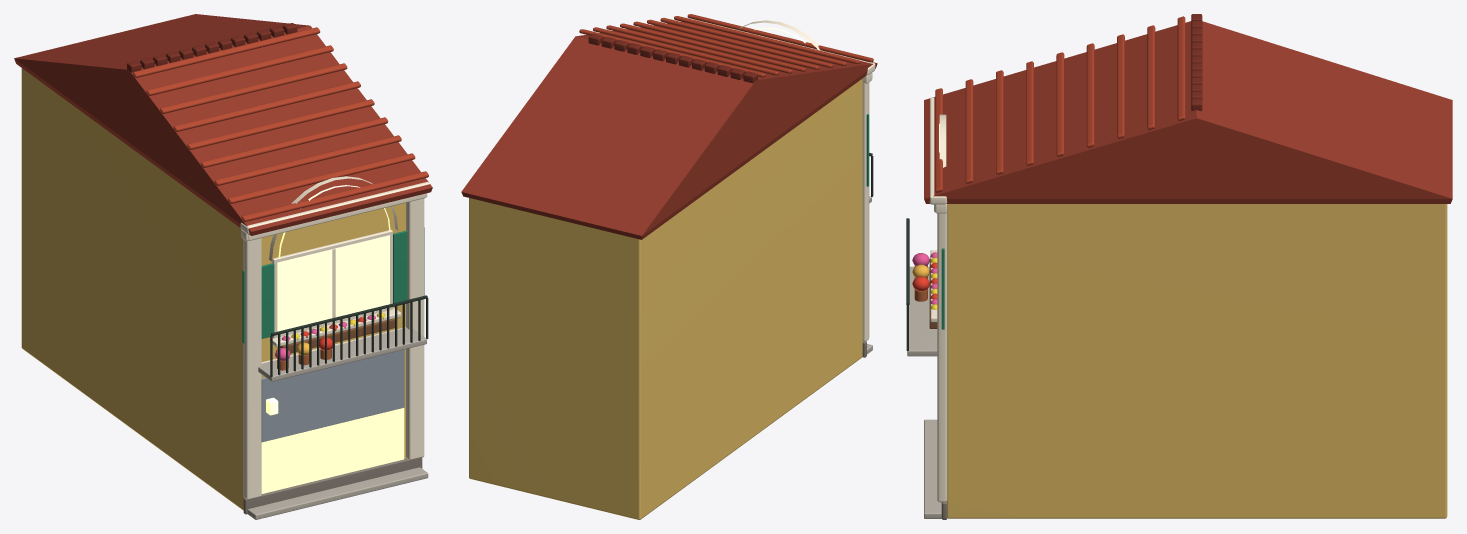
Rendered from house_2f_roof.glb.
3 renders of one model, left to right at view 1: azimuth 30°, elevation 25°; view 2: azimuth 150°, elevation 25°; view 3: azimuth 270°, elevation 25°, orthographic. The views are drawn at different scales.
Visible parts, largest first — view 1: Shell, Roof, Shutter, W1Glass, Inside, Pil-0.06, Pil3.7, B1Slab, Step, Plinth, W1Frame, Tiles4 (+15 smaller); view 2: Shell, Roof, Pil-0.06, Tiles6, Tiles1, Tiles5, Tiles4, Tiles7, Tiles2, Tiles3, Tiles0, Tiles8; view 3: Shell, Roof, Pil3.7, B1Slab, Step, Tiles1, Tiles4, Tiles5, Tiles7, Tiles8, Tiles3, Tiles6 (+3 smaller).
Boxes of the visible parts, bbox=[...] form: Shell: bbox=[21, 68, 406, 510]; Roof: bbox=[14, 14, 432, 235]; Shutter: bbox=[261, 349, 404, 442]; W1Glass: bbox=[277, 235, 389, 334]; Inside: bbox=[261, 408, 404, 493]; Pil-0.06: bbox=[243, 238, 261, 499]; Pil3.7: bbox=[406, 198, 424, 459]; B1Slab: bbox=[258, 327, 426, 381]; Step: bbox=[247, 467, 428, 519]; Plinth: bbox=[243, 457, 422, 514]; W1Frame: bbox=[272, 230, 392, 338]; Tiles4: bbox=[187, 99, 374, 149]; Shell: bbox=[469, 78, 862, 519]; Roof: bbox=[461, 21, 877, 239]; Pil-0.06: bbox=[862, 78, 869, 341]; Tiles6: bbox=[606, 25, 792, 73]; Tiles1: bbox=[674, 16, 860, 64]; Tiles5: bbox=[620, 23, 806, 71]; Tiles4: bbox=[633, 21, 819, 69]; Tiles7: bbox=[593, 27, 778, 75]; Tiles2: bbox=[660, 18, 846, 65]; Tiles3: bbox=[647, 19, 833, 67]; Tiles0: bbox=[687, 14, 873, 62]; Tiles8: bbox=[579, 29, 765, 77]; Shell: bbox=[946, 204, 1447, 518]; Roof: bbox=[924, 21, 1452, 203]; Pil3.7: bbox=[937, 212, 947, 502]; B1Slab: bbox=[907, 266, 937, 356]; Step: bbox=[924, 419, 941, 518]; Tiles1: bbox=[965, 79, 973, 183]; Tiles4: bbox=[1056, 52, 1064, 156]; Tiles5: bbox=[1086, 43, 1094, 147]; Tiles7: bbox=[1147, 25, 1155, 129]; Tiles8: bbox=[1177, 16, 1185, 120]; Tiles3: bbox=[1026, 61, 1033, 165]; Tiles6: bbox=[1117, 34, 1124, 138].
Size of the model in its own units: 4.28 by 8.12 by 9.82.
